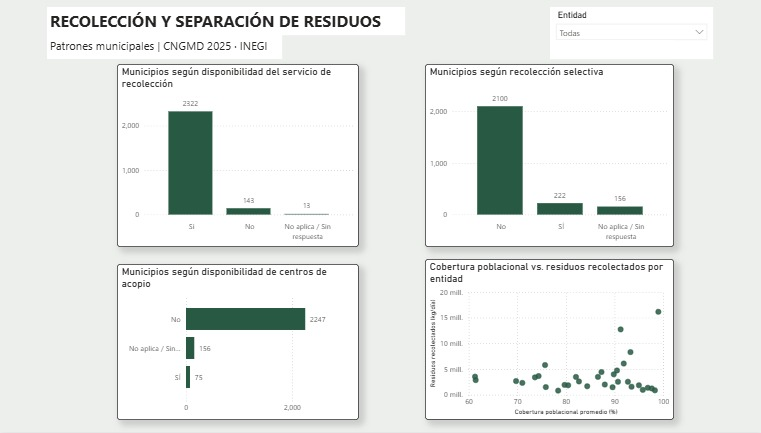

This screenshot's page, from the dashboard's own definition file:
{"tool":"powerbi","page":{"name":"02 - Recolección y separación","canvas":[1280,720],"ordinal":1},"visuals":[{"type":"clusteredColumnChart","title":"Municipios según disponibilidad del servicio de recolección","fields":{"Category":["Dim_ServicioRecoleccion.ServicioRecoleccion"],"Y":["CountNonNull(servicio_cngmd2025.cvegeo_corregida)"]},"box":[200,106.7,403.3,305],"z":0},{"type":"clusteredColumnChart","title":"Municipios según recolección selectiva","fields":{"Category":["Dim_RecoleccionSelectiva.RecoleccionSelectiva"],"Y":["CountNonNull(servicio_cngmd2025.cvegeo_corregida)"]},"box":[713.3,106.7,415,305],"z":1000},{"type":"clusteredBarChart","title":"Municipios según disponibilidad de centros de acopio","fields":{"Category":["Dim_CentroAcopio.CentroAcopio"],"Y":["CountNonNull(servicio_cngmd2025.cvegeo_corregida)"]},"box":[200,440,403.3,260],"z":2000},{"type":"scatterChart","title":"Cobertura poblacional vs. residuos recolectados por entidad","fields":{"X":["servicio_cngmd2025.Cobertura Promedio Poblacion"],"Y":["servicio_cngmd2025.Residuos Recolectados Kg Día"],"Category":["Dim_Geografia.Entidad"]},"box":[713.3,431.7,415,268.3],"z":3000},{"type":"slicer","fields":{"Values":["Dim_Geografia.Entidad"]},"box":[921.7,11.7,271.7,86.7],"z":4000},{"type":"textbox","box":[83.3,12.2,596.7,46.7],"z":5000},{"type":"textbox","box":[83.3,58.9,392.2,40],"z":6000}]}

Visuals, with their boxes in screenshot pixels (x1, y1, x2, y2), scaled from the page's 1280x720 canvas onto the 761x433 screenshot:
"Municipios según disponibilidad del servicio de recolección" clusteredColumnChart: select_region(119, 64, 359, 248)
"Municipios según recolección selectiva" clusteredColumnChart: select_region(424, 64, 671, 248)
"Municipios según disponibilidad de centros de acopio" clusteredBarChart: select_region(119, 265, 359, 421)
"Cobertura poblacional vs. residuos recolectados por entidad" scatterChart: select_region(424, 260, 671, 421)
slicer - Dim_Geografia.Entidad: select_region(548, 7, 710, 59)
textbox: select_region(50, 7, 404, 35)
textbox: select_region(50, 35, 283, 59)
